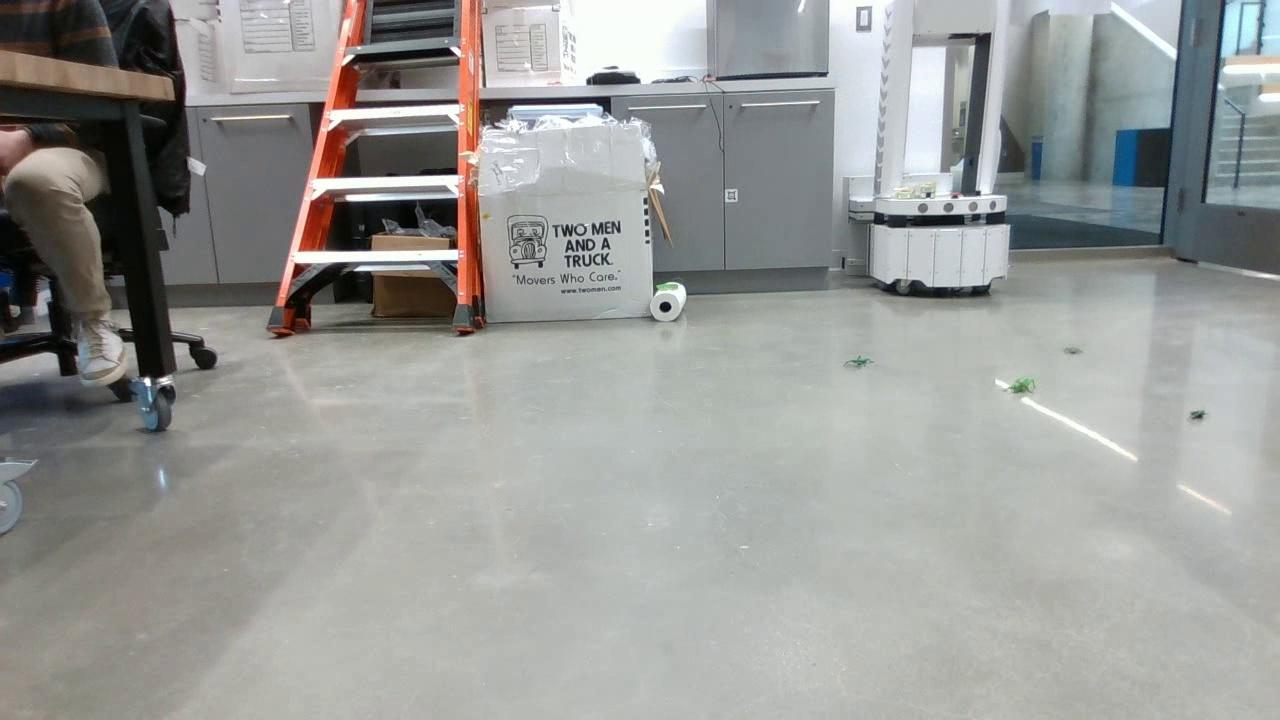grasshopper: (1010, 378, 1036, 393), (654, 284, 679, 290)
